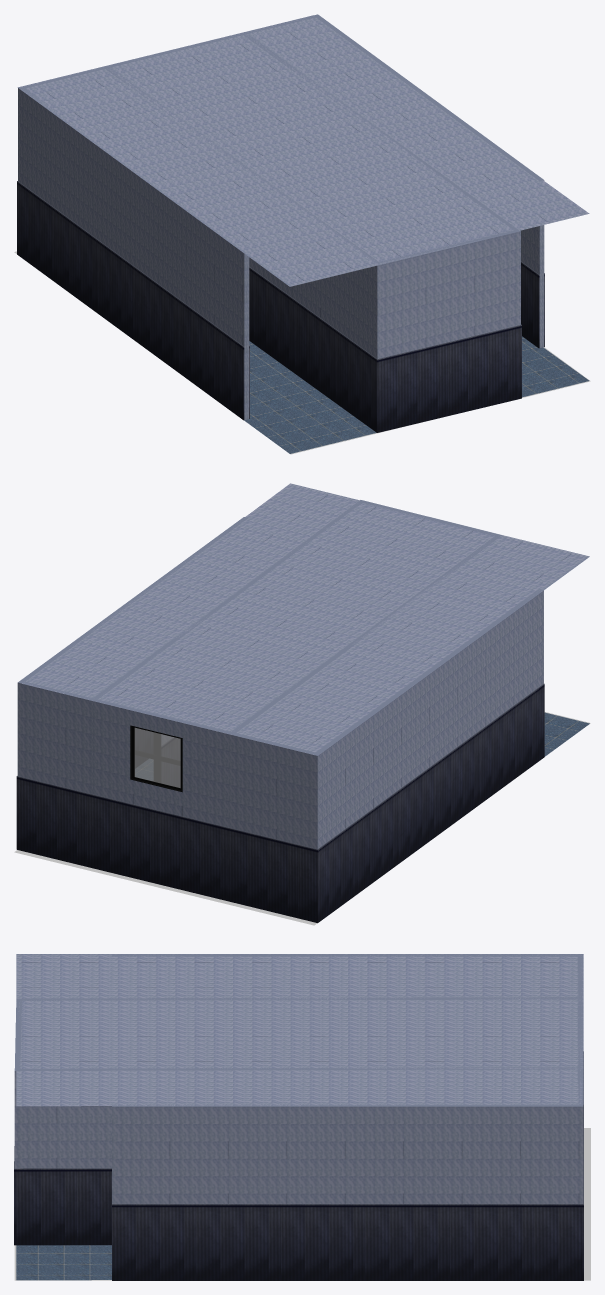
Rendered from Mapfive.glb.
The picture shows the model from 3 angles, top to bottom: view 1: azimuth 30°, elevation 25°; view 2: azimuth 150°, elevation 25°; view 3: azimuth 270°, elevation 25°; orthographic projection. The views are drawn at different scales.
Parts seen in each view (by area): view 1: Object_20, Object_22, Object_5, Object_19, Object_21; view 2: Object_20, Object_22, Object_19, Object_3, Object_5, Object_4, Object_24, Object_21; view 3: Object_20, Object_22, Object_19, Object_5, Object_4, Object_21.
Part boxes in pixels (x1,y1,x2,y2): Object_20: (17,15,589,420); Object_22: (17,181,544,432); Object_5: (244,336,589,453); Object_19: (19,14,543,264); Object_21: (17,181,544,359); Object_20: (17,483,589,849); Object_22: (16,684,544,923); Object_19: (18,500,543,755); Object_3: (134,727,180,787); Object_5: (135,712,589,780); Object_4: (14,712,590,925); Object_24: (130,725,182,792); Object_21: (17,683,544,849); Object_20: (14,954,583,1203); Object_22: (14,1168,583,1280); Object_19: (14,954,583,1106); Object_5: (16,1245,111,1280); Object_4: (14,1128,590,1280); Object_21: (14,1051,583,1204).
Size of the model in its own units: 471 by 250 by 751.
Materials: 21 (3 with a texture image).
